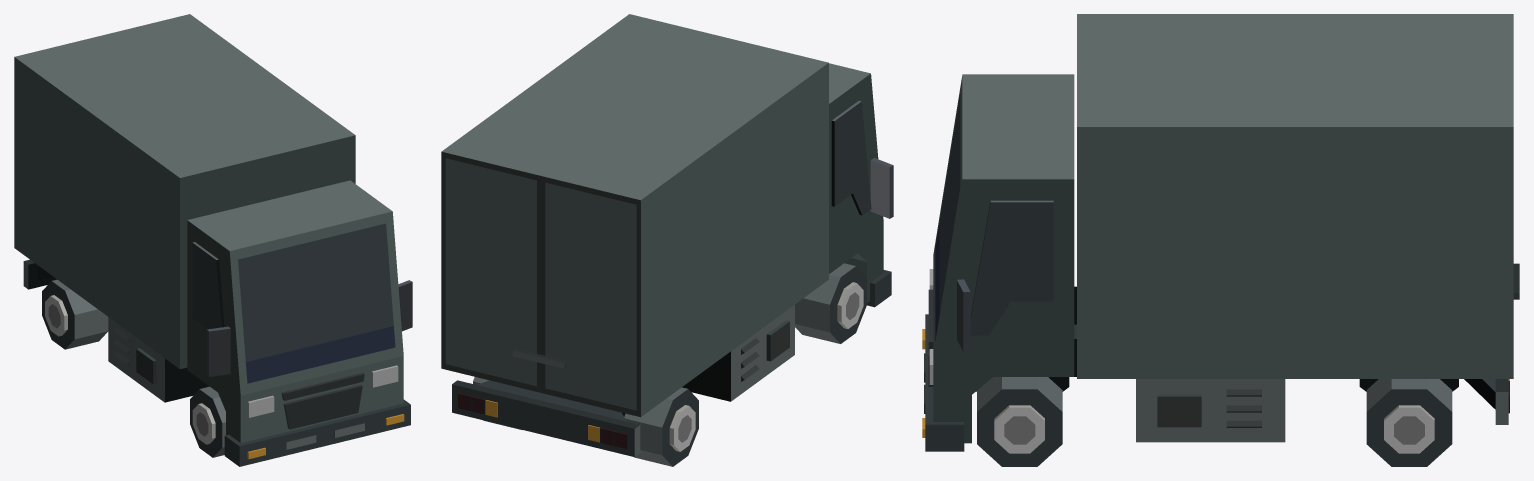
Rendered from TB_CITY_Car_Truck_D.FBX.
The picture shows the model from 3 angles, left to right: view 1: azimuth 30°, elevation 25°; view 2: azimuth 150°, elevation 25°; view 3: azimuth 270°, elevation 25°; orthographic projection. The views are drawn at different scales.
Parts seen in each view (by area): view 1: TB_CITY_Car_Truck_D, TB_Car_Truck_Wheel014, TB_Car_Truck_Wheel016; view 2: TB_CITY_Car_Truck_D, TB_Car_Truck_Wheel016, TB_Car_Truck_Wheel014; view 3: TB_CITY_Car_Truck_D, TB_Car_Truck_Wheel015, TB_Car_Truck_Wheel013.
Boxes of the visible parts, bbox=[...] form: TB_CITY_Car_Truck_D: bbox=[14, 14, 412, 466]; TB_Car_Truck_Wheel014: bbox=[42, 279, 108, 349]; TB_Car_Truck_Wheel016: bbox=[190, 386, 225, 457]; TB_CITY_Car_Truck_D: bbox=[441, 14, 893, 457]; TB_Car_Truck_Wheel016: bbox=[795, 263, 866, 343]; TB_Car_Truck_Wheel014: bbox=[624, 387, 698, 466]; TB_CITY_Car_Truck_D: bbox=[922, 14, 1519, 451]; TB_Car_Truck_Wheel015: bbox=[977, 377, 1062, 466]; TB_Car_Truck_Wheel013: bbox=[1366, 379, 1452, 466].
Size of the model in its own units: 4.17 by 5.09 by 8.03.
